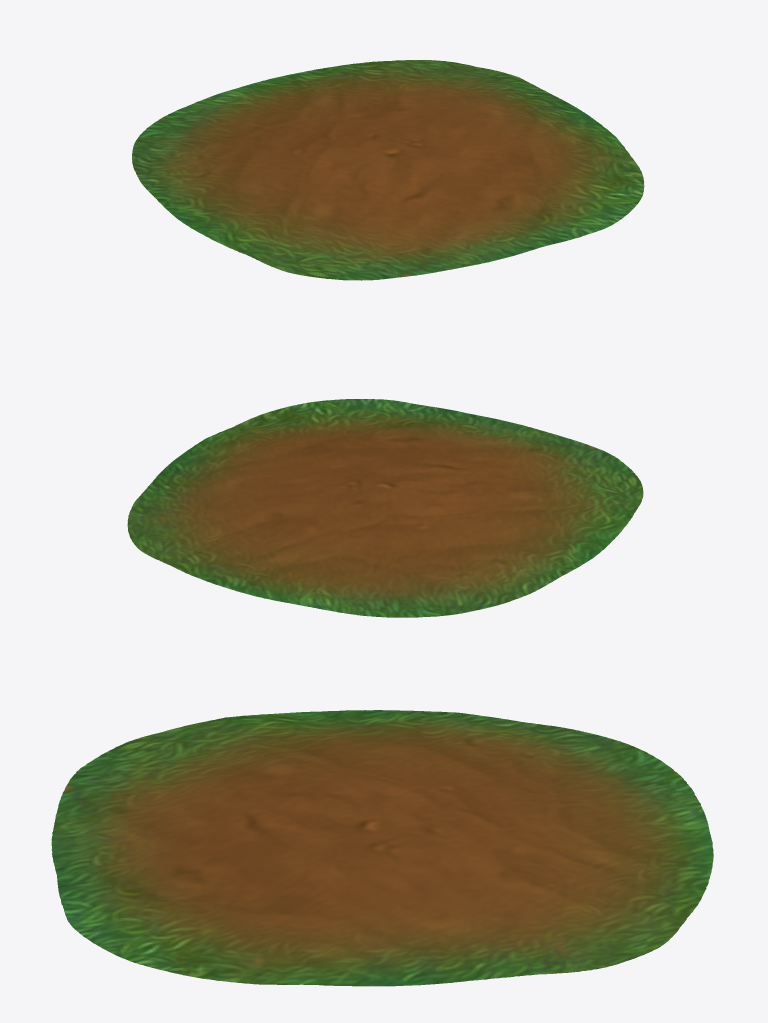
3 renders of one model, top to bottom at view 1: azimuth 30°, elevation 25°; view 2: azimuth 150°, elevation 25°; view 3: azimuth 270°, elevation 25°, orthographic. The views are drawn at different scales.
Parts seen in each view (by area): view 1: tu; view 2: tu; view 3: tu.
Boxes of the visible parts, x1,y1,x2,y2 form: tu: [132, 60, 644, 280]; tu: [127, 399, 643, 617]; tu: [51, 710, 713, 986].
Bounding box in the file's own units: 1 × 0.0446 × 1.
Materials: 1 (1 with a texture image).
